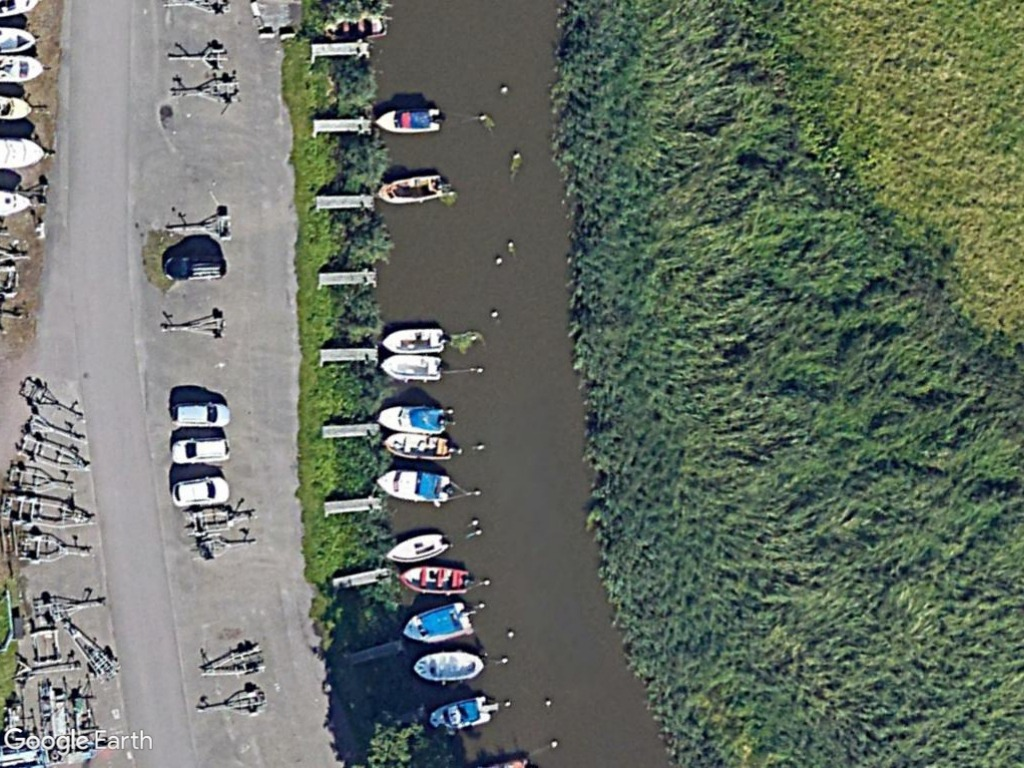boat: (370, 463, 454, 508), (396, 599, 476, 644), (395, 555, 471, 600), (422, 693, 495, 734), (409, 648, 487, 685), (380, 427, 455, 465), (374, 169, 443, 209), (371, 100, 445, 137), (374, 402, 449, 437), (375, 349, 443, 383), (383, 531, 451, 565), (379, 322, 446, 355)
car: (167, 471, 235, 511), (168, 433, 234, 467), (166, 399, 232, 430)
